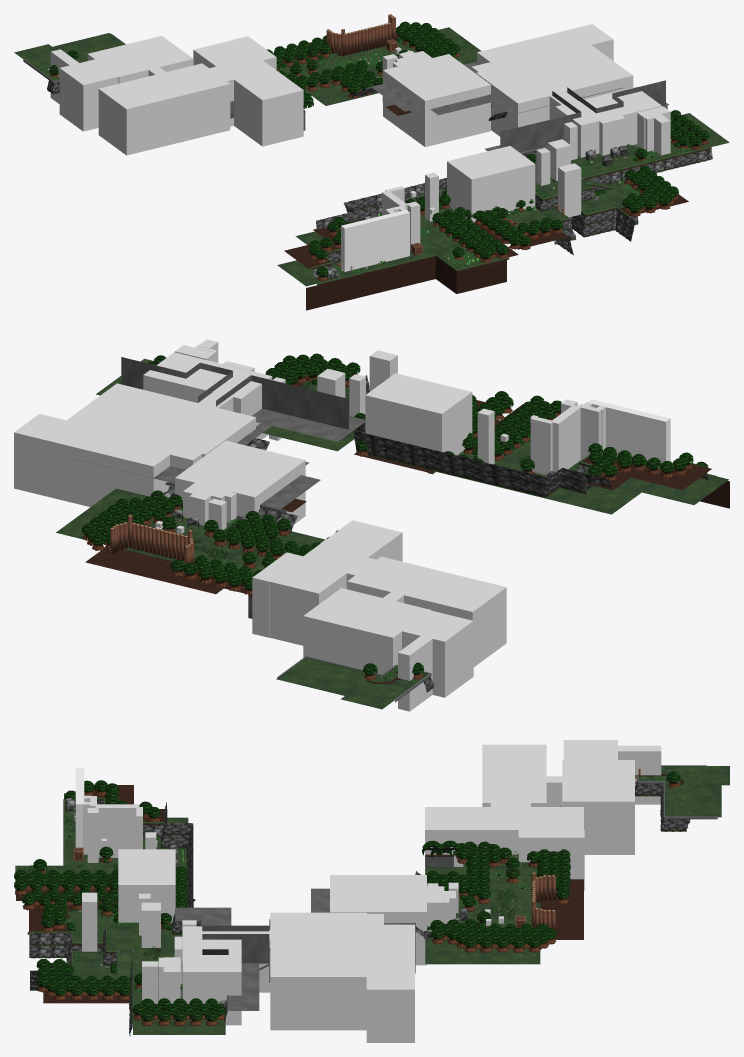
3 views of the same model, one above another, from view 1: azimuth 30°, elevation 25°; view 2: azimuth 150°, elevation 25°; view 3: azimuth 270°, elevation 25° (orthographic). The views are drawn at different scales.
Parts seen in each view (by area): view 1: area_stone_.012, area_stone_.005, area_dirt_.012, area_dirt_.018, area_dirt_, floor_dirt_B.030, area_dirt_.003, area_stone_.015, area_stone_, area_stone_.006, area_stone_.013, floor_receive.002 (+23 smaller); view 2: area_stone_.006, area_stone_.005, area_dirt_.018, area_stone_.012, area_stone_.013, area_dirt_, area_dirt_.012, area_stone_.015, area_stone_, floor_receive.002, floor_receive.010, floor_receive.009 (+22 smaller); view 3: area_stone_.005, area_stone_.013, area_stone_.006, area_dirt_.018, floor_receive.009, area_dirt_.012, area_stone_, area_stone_.012, area_dirt_, floor_receive.006, floor_receive.010, area_dirt_.019 (+21 smaller).
Boxes of the visible parts, x1,y1,x2,y2 form: area_stone_.012: (98, 63, 230, 155); area_stone_.005: (476, 45, 633, 136); area_dirt_.012: (383, 54, 490, 147); area_dirt_.018: (193, 39, 303, 146); area_dirt_: (447, 146, 535, 222); floor_dirt_B.030: (306, 257, 506, 310); area_dirt_.003: (341, 210, 409, 271); area_stone_.015: (59, 58, 122, 131); area_stone_: (555, 87, 661, 157); area_stone_.006: (477, 24, 613, 67); area_stone_.013: (87, 36, 193, 83); floor_receive.002: (277, 214, 499, 286); area_stone_.006: (14, 414, 178, 506); area_stone_.005: (66, 383, 255, 457); area_dirt_.018: (269, 520, 402, 645); area_stone_.012: (347, 556, 506, 666); area_stone_.013: (303, 588, 431, 674); area_dirt_: (365, 373, 472, 462); area_dirt_.012: (175, 440, 305, 524); area_stone_.015: (397, 609, 473, 697); area_stone_: (143, 352, 272, 439); floor_receive.002: (455, 438, 728, 514); floor_receive.010: (276, 657, 428, 709); floor_receive.009: (56, 488, 325, 574); area_stone_.005: (270, 912, 366, 1030); area_stone_.013: (562, 760, 634, 854); area_stone_.006: (366, 924, 414, 1042); area_dirt_.018: (425, 807, 583, 874); floor_receive.009: (425, 855, 540, 964); area_dirt_.012: (330, 875, 426, 965); area_stone_: (182, 926, 241, 1025); area_stone_.012: (482, 744, 546, 806); area_dirt_: (118, 849, 175, 922); floor_receive.006: (107, 923, 225, 1034); floor_receive.010: (638, 766, 729, 817); area_dirt_.019: (518, 829, 584, 890).
Size of what is drawn, in the model's own units: 92.07 by 13.91 by 108.
Materials: 9 (5 with a texture image).
